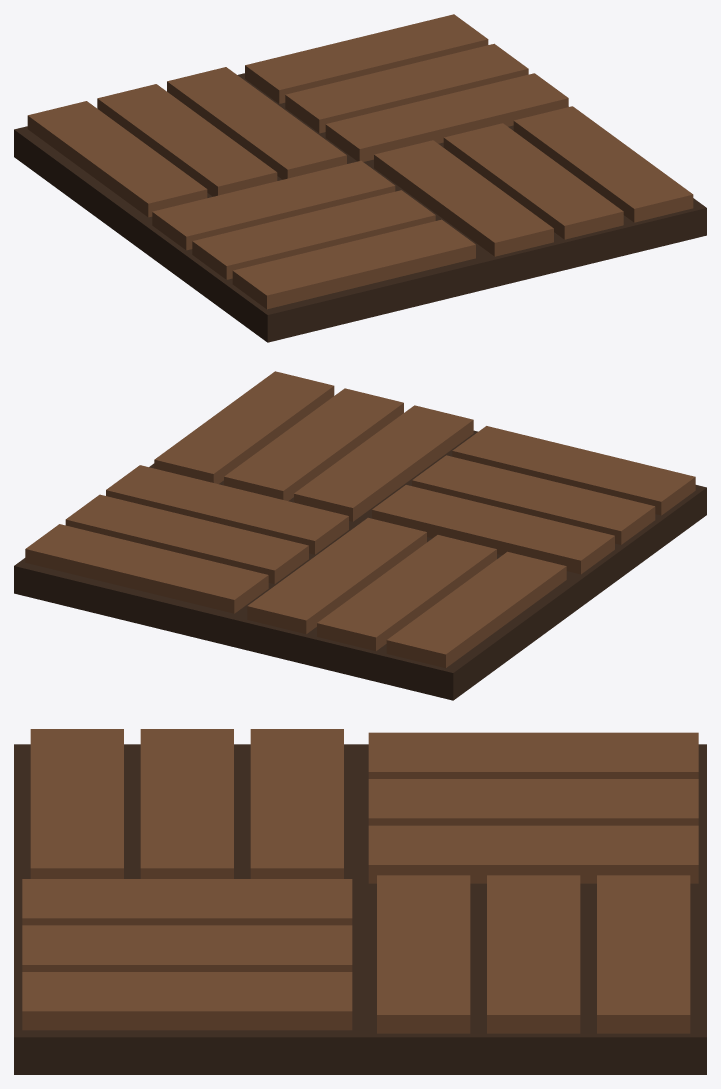
Rendered from SM_LPI_Floor_ParquetDark_01.fbx.
3 views of the same model, one above another, from view 1: azimuth 30°, elevation 25°; view 2: azimuth 150°, elevation 25°; view 3: azimuth 270°, elevation 25° (orthographic). The views are drawn at different scales.
Parts seen in each view (by area): view 1: SM_LPI_Floor_ParquetDark_01; view 2: SM_LPI_Floor_ParquetDark_01; view 3: SM_LPI_Floor_ParquetDark_01.
Boxes of the visible parts, x1=… form: SM_LPI_Floor_ParquetDark_01: x1=14, y1=14, x2=706, y2=342; SM_LPI_Floor_ParquetDark_01: x1=14, y1=371, x2=706, y2=700; SM_LPI_Floor_ParquetDark_01: x1=14, y1=729, x2=706, y2=1074.
Size of the model in its own units: 0.5 by 0.045 by 0.5.
